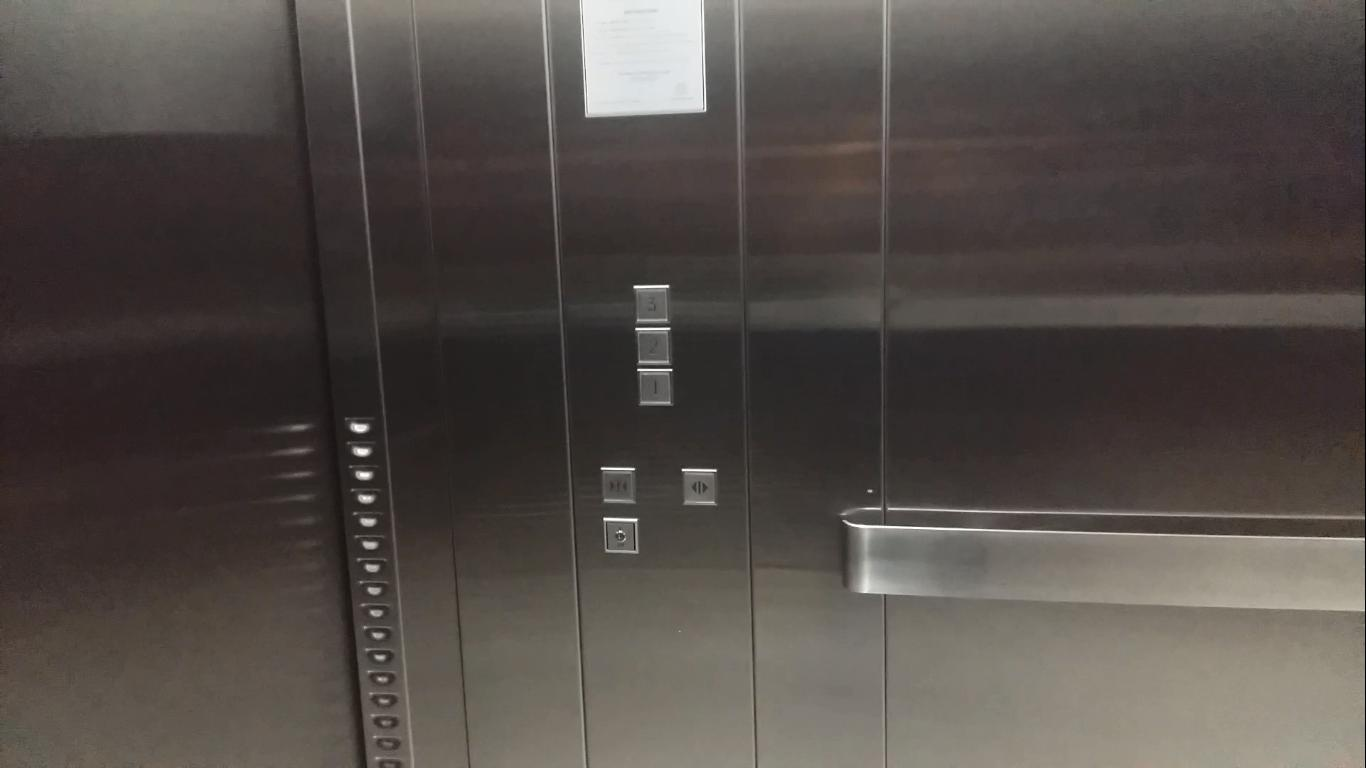1: (634, 367, 673, 407)
2: (634, 324, 672, 366)
3: (630, 283, 672, 322)
bt_keyhole: (599, 515, 640, 555)
close: (599, 466, 636, 505)
open: (678, 467, 718, 506)
